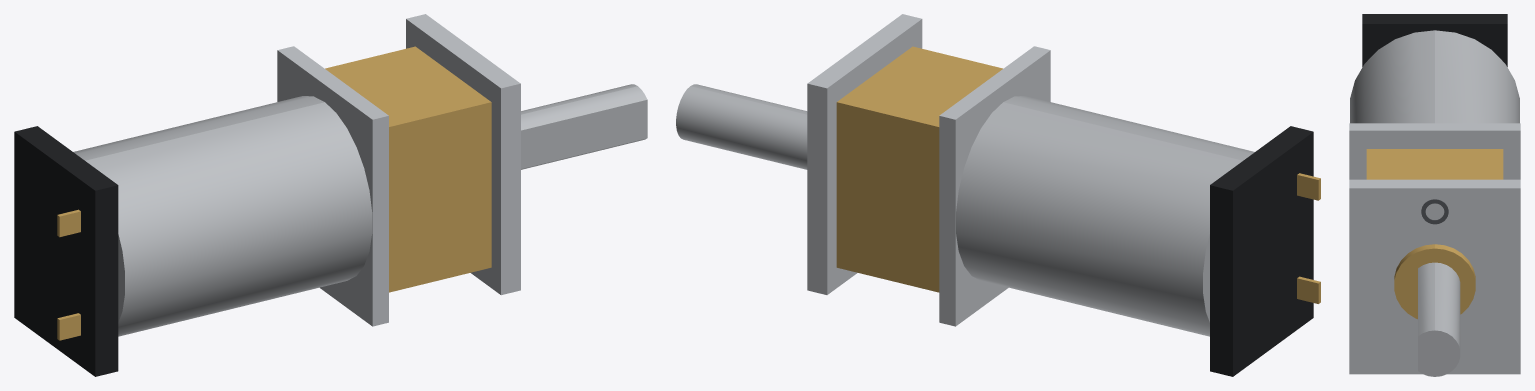
File: pololu-2361-75-1-hp.glb
3 views of the same model, side by side, from view 1: azimuth 30°, elevation 25°; view 2: azimuth 150°, elevation 25°; view 3: azimuth 270°, elevation 25° (orthographic). The views are drawn at different scales.
Parts seen in each view (by area): view 1: body, gears, end_cap, gearbox_plates, shaft, terminal_a, terminal_b; view 2: body, gears, end_cap, gearbox_plates, shaft, terminal_a, terminal_b; view 3: gearbox_plates, body, shaft, gears, end_cap, bushing, mount_hole_2.
Boxes of the visible parts, x1,y1,x2,y2 form: body: [73, 96, 372, 336]; gears: [325, 46, 491, 292]; end_cap: [14, 126, 118, 376]; gearbox_plates: [277, 14, 520, 326]; shaft: [521, 84, 647, 169]; terminal_a: [57, 313, 80, 340]; terminal_b: [57, 209, 80, 237]; body: [956, 96, 1254, 336]; gears: [836, 46, 1002, 292]; end_cap: [1210, 126, 1313, 376]; gearbox_plates: [807, 14, 1050, 326]; shaft: [676, 84, 807, 169]; terminal_a: [1297, 276, 1320, 303]; terminal_b: [1297, 173, 1320, 200]; gearbox_plates: [1349, 123, 1520, 374]; body: [1350, 30, 1519, 123]; shaft: [1418, 262, 1460, 376]; gears: [1366, 149, 1503, 179]; end_cap: [1362, 14, 1507, 66]; bushing: [1394, 244, 1475, 319]; mount_hole_2: [1421, 199, 1448, 224].
Size of the model in its own units: 36.7 by 12 by 10.
